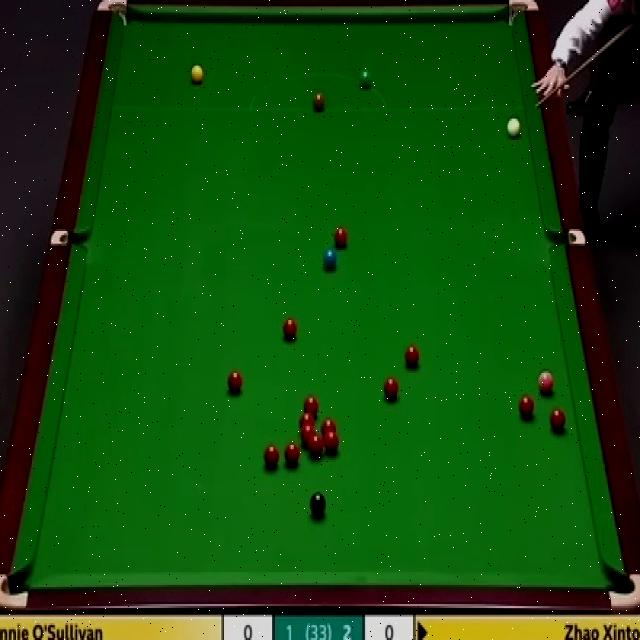black-ball: (310, 490, 326, 521)
blue-ball: (322, 248, 338, 271)
brown-ball: (312, 91, 325, 112)
green-ball: (358, 69, 372, 90)
pink-ball: (538, 369, 554, 396)
red-ball: (226, 368, 244, 398), (283, 440, 301, 470), (262, 443, 279, 469), (520, 394, 537, 420), (323, 431, 340, 456), (550, 409, 568, 432), (382, 377, 398, 402), (405, 343, 420, 369), (282, 318, 298, 341), (309, 433, 323, 457), (332, 228, 348, 248), (302, 396, 319, 413), (300, 426, 315, 445), (300, 412, 314, 428), (322, 420, 336, 434)
white-ball: (507, 118, 522, 139)
yellow-ball: (191, 65, 205, 87)
